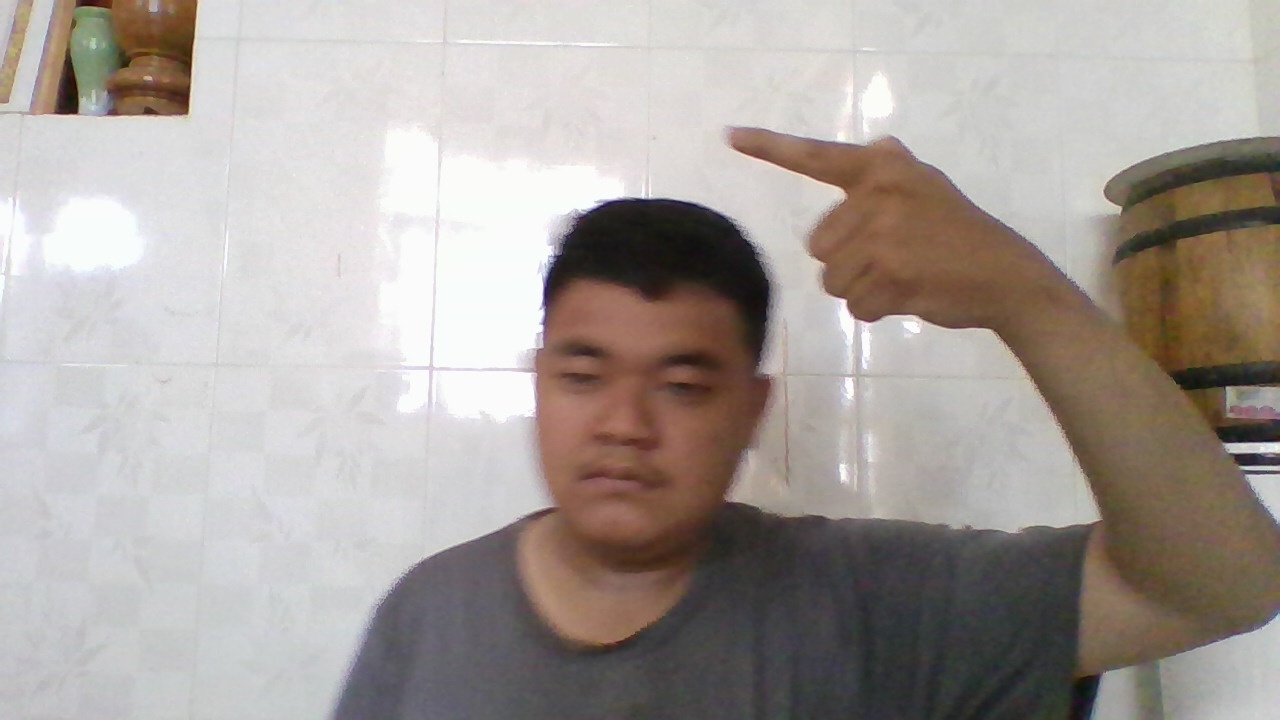G: (720, 118, 1031, 326)
